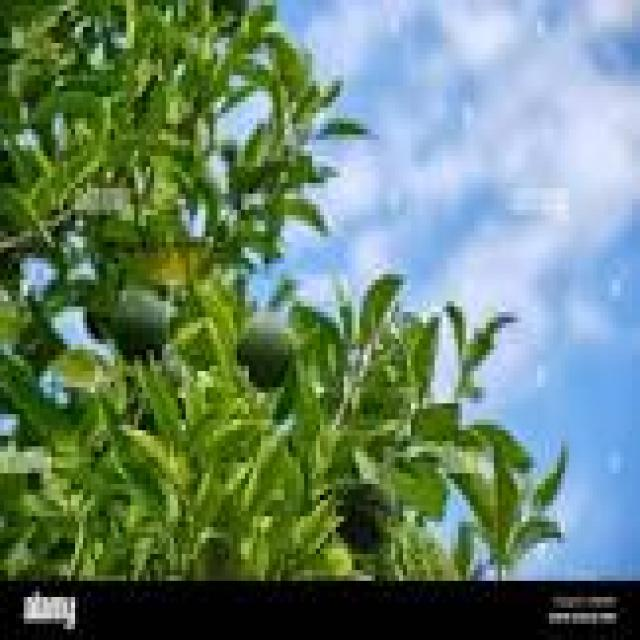orange: (111, 285, 166, 355), (336, 479, 391, 549), (237, 312, 288, 387)
